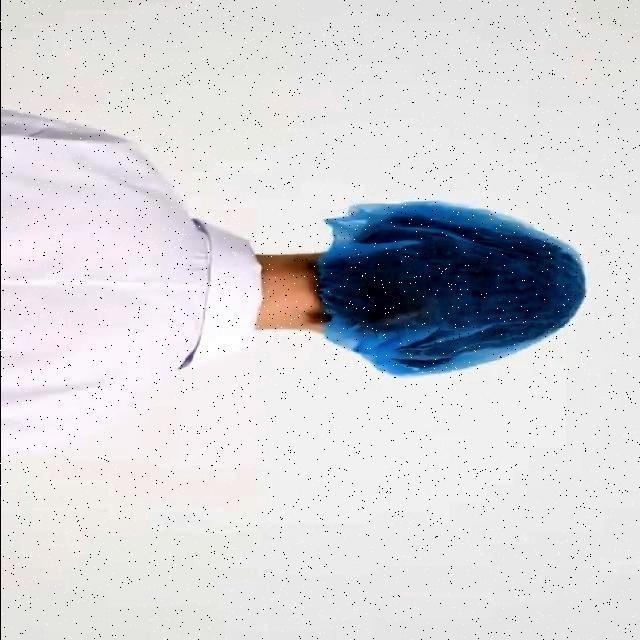gloves: (332, 212, 547, 378)
